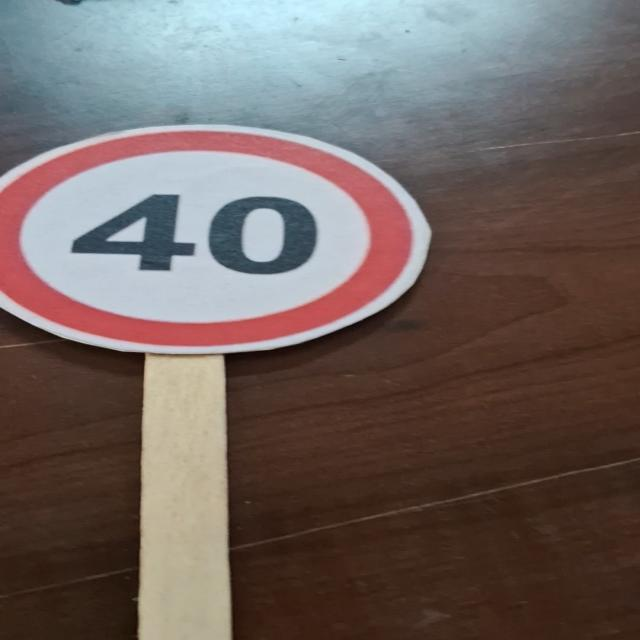Speed40: (0, 118, 437, 356)
